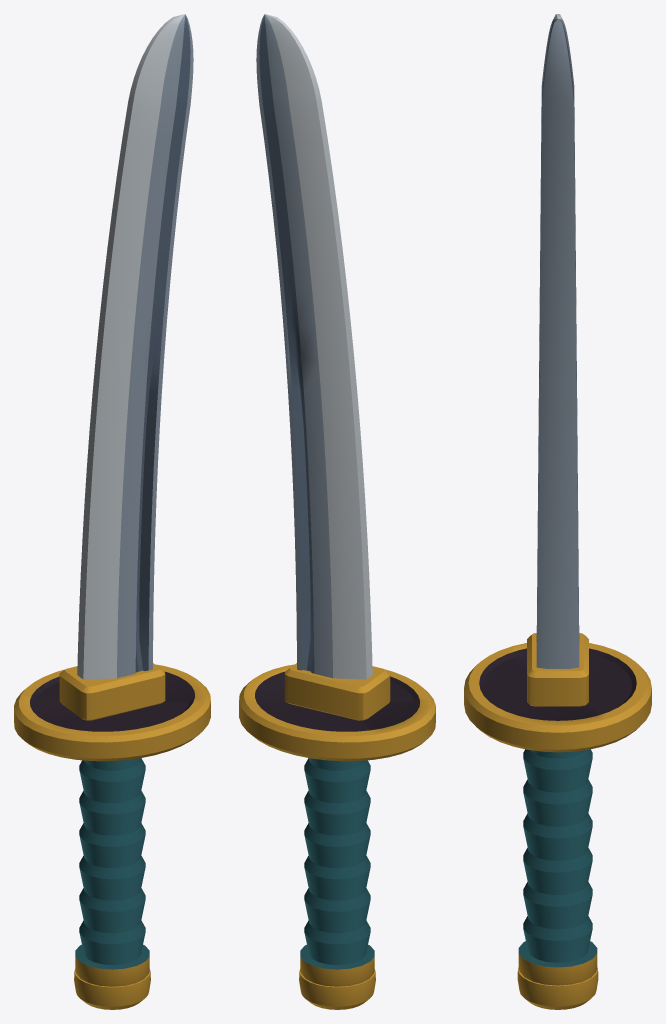
The model's file is Katana_16.glb.
The picture shows the model from 3 angles, left to right: view 1: azimuth 30°, elevation 25°; view 2: azimuth 150°, elevation 25°; view 3: azimuth 270°, elevation 25°; orthographic projection. The views are drawn at different scales.
Parts seen in each view (by area): view 1: Katana_16; view 2: Katana_16; view 3: Katana_16.
Boxes of the visible parts, x1=… form: Katana_16: x1=14, y1=14, x2=210, y2=1009; Katana_16: x1=239, y1=14, x2=435, y2=1009; Katana_16: x1=464, y1=14, x2=651, y2=1009.
Bounding box in the file's own units: 1.25 × 6.54 × 1.1.
